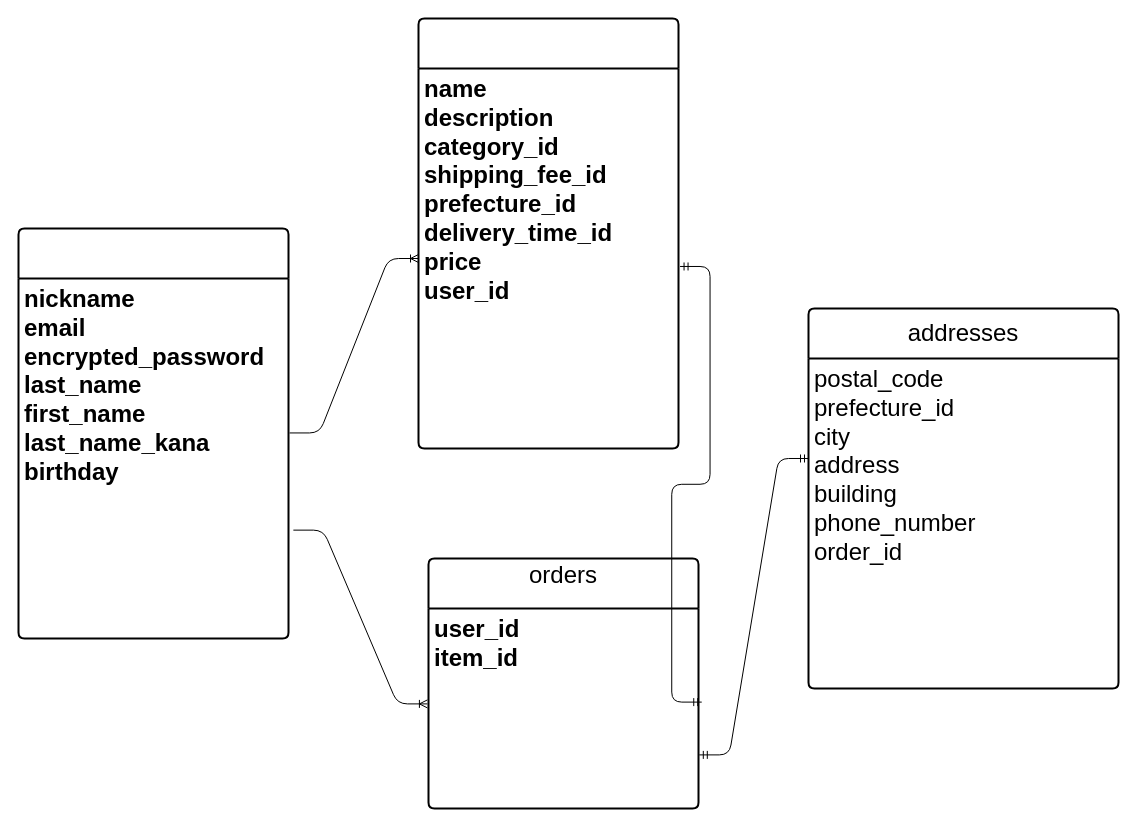
Image size: 1136x826. Some labels were removed from this diagram. The shapes that lost their labels are listed below. From the top down, each one's box as (x1, y1, x2, y2) in pixels, then its label:
(417, 17, 679, 449): items
(17, 227, 289, 639): users
